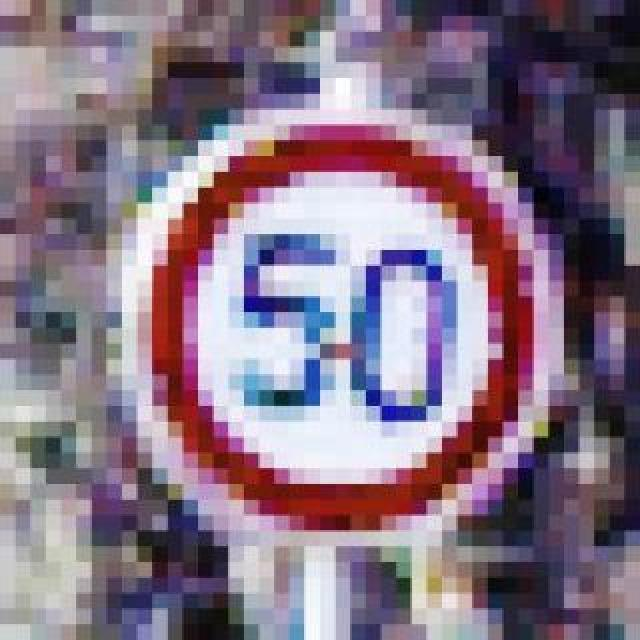50 kph: (108, 78, 550, 530)
